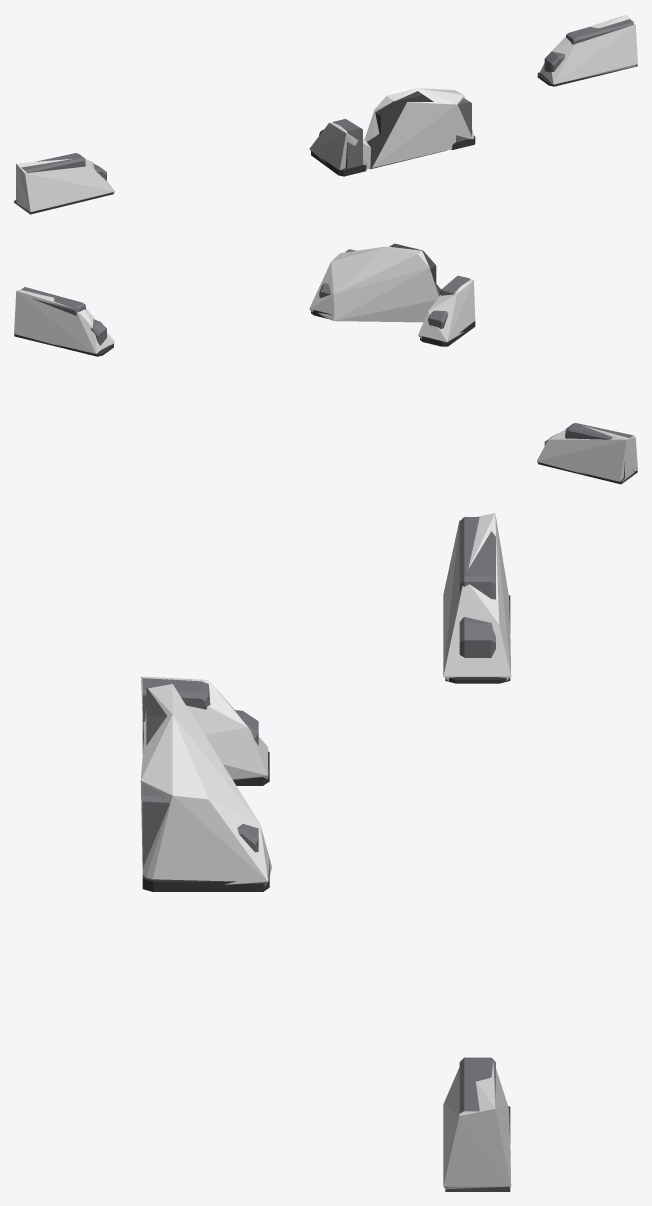
Rendered from SM_Bld_Bridge_Wall_Details_01.fbx.
3 renders of one model, top to bottom at view 1: azimuth 30°, elevation 25°; view 2: azimuth 150°, elevation 25°; view 3: azimuth 270°, elevation 25°, orthographic. The views are drawn at different scales.
Visible parts, largest first — view 1: SM_Bld_Bridge_Wall_Details_01_ConvexHulls, SM_Bld_Bridge_Wall_Details_01_LOD0; view 2: SM_Bld_Bridge_Wall_Details_01_ConvexHulls, SM_Bld_Bridge_Wall_Details_01_LOD0; view 3: SM_Bld_Bridge_Wall_Details_01_ConvexHulls, SM_Bld_Bridge_Wall_Details_01_LOD0.
Boxes of the visible parts, x1=… form: SM_Bld_Bridge_Wall_Details_01_ConvexHulls: x1=16, y1=14, x2=637, y2=211; SM_Bld_Bridge_Wall_Details_01_LOD0: x1=14, y1=19, x2=637, y2=214; SM_Bld_Bridge_Wall_Details_01_ConvexHulls: x1=14, y1=246, x2=637, y2=482; SM_Bld_Bridge_Wall_Details_01_LOD0: x1=14, y1=243, x2=637, y2=484; SM_Bld_Bridge_Wall_Details_01_ConvexHulls: x1=140, y1=513, x2=511, y2=1189; SM_Bld_Bridge_Wall_Details_01_LOD0: x1=142, y1=517, x2=510, y2=1191.
Bounding box in the file's own units: 472 × 1798 × 277.
1 material, 1 textured.
